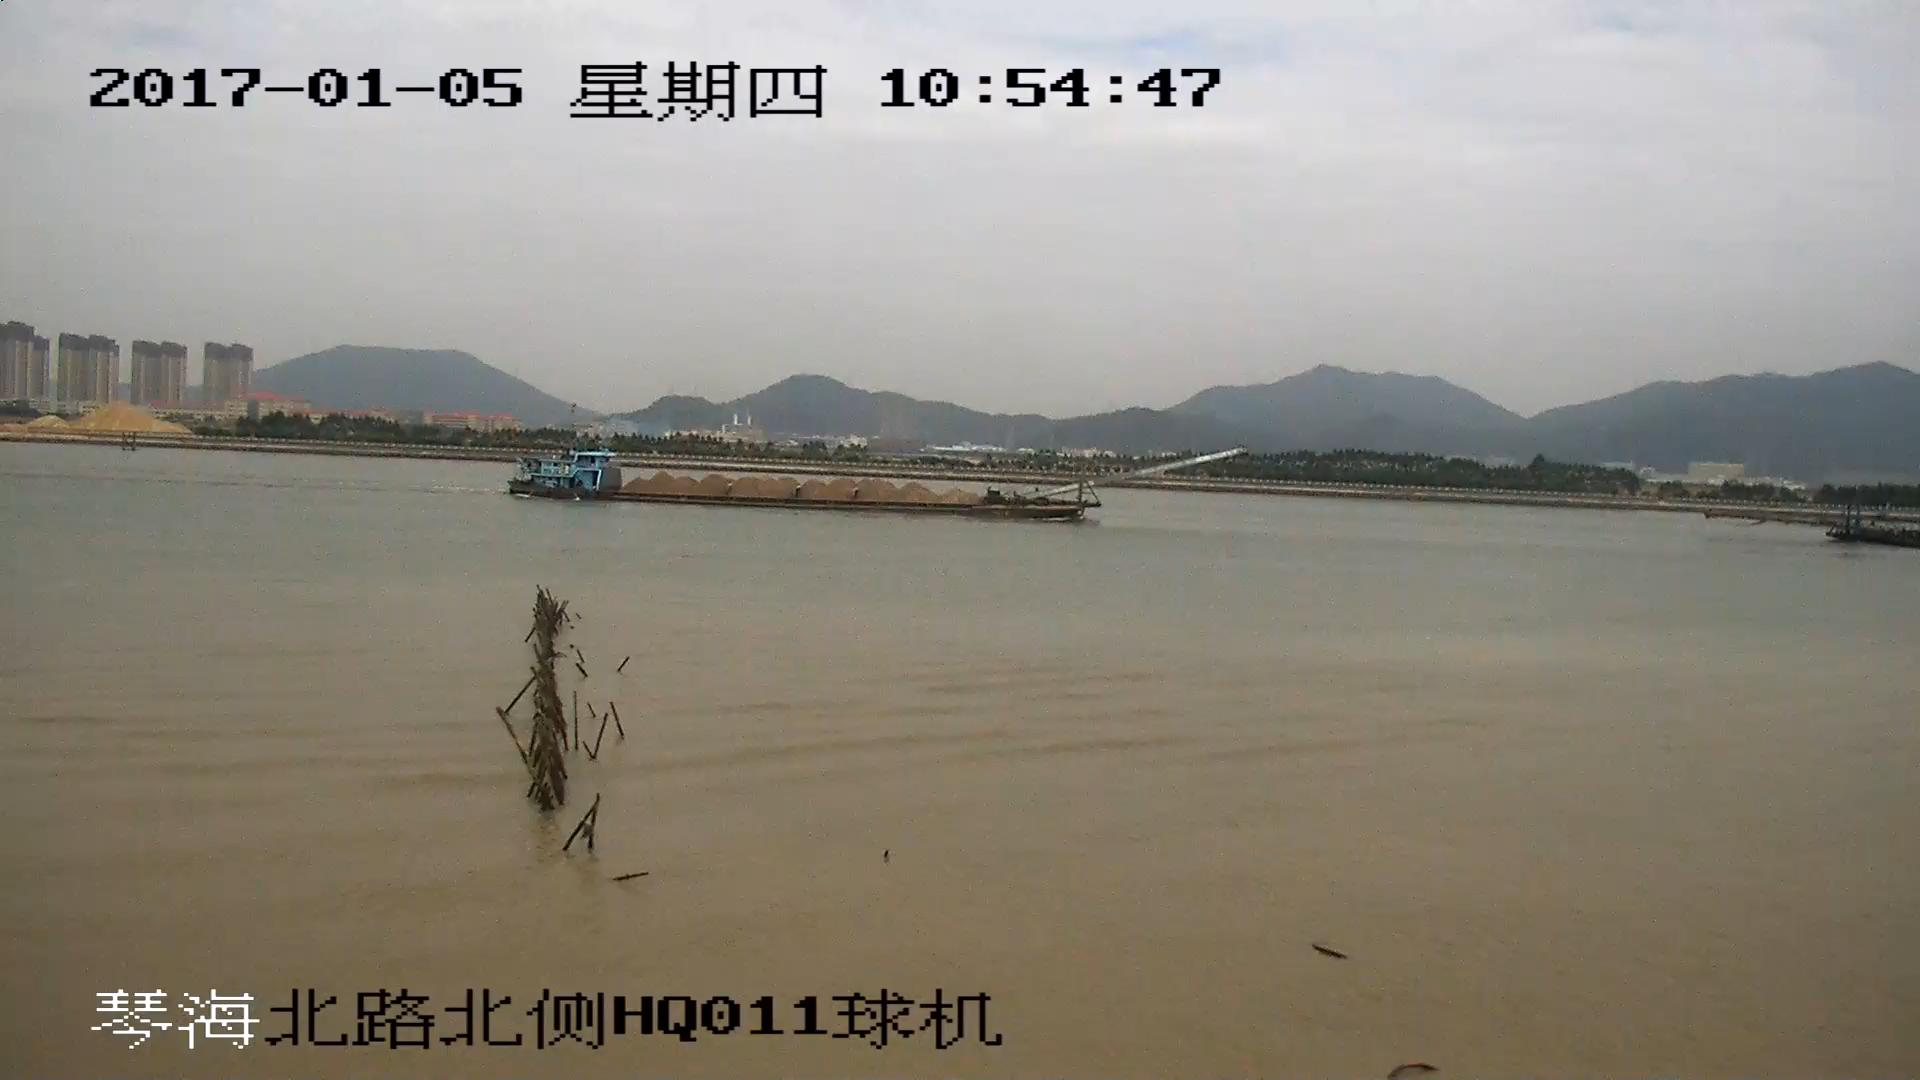ore carrier: (508, 448, 1248, 520)
